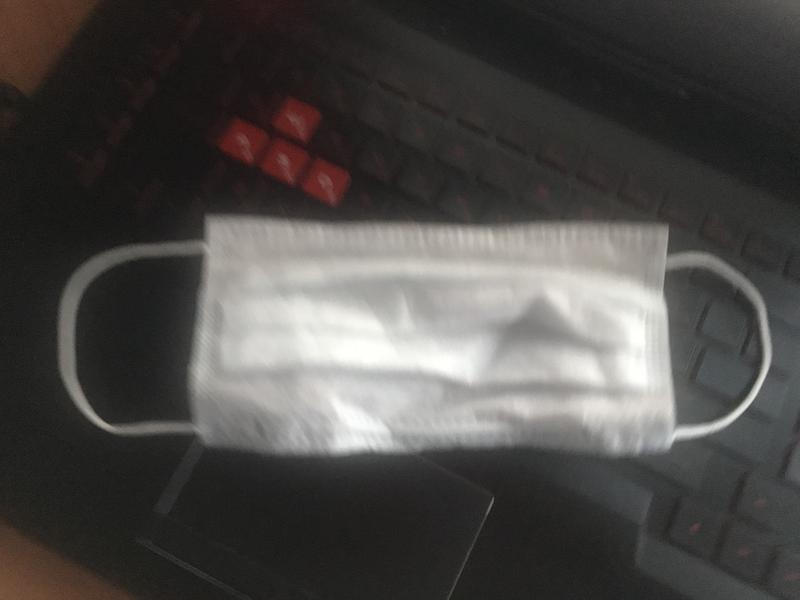medical_mask: (58, 214, 774, 455)
